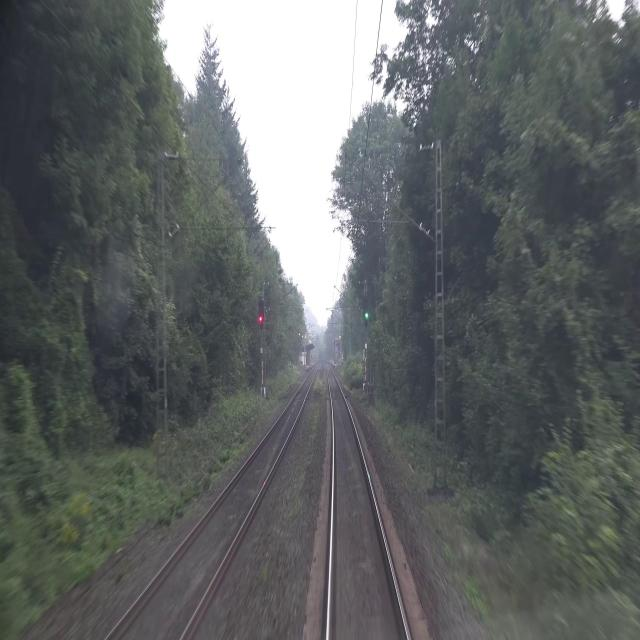rail-track: (109, 373, 312, 639), (328, 367, 406, 639)
